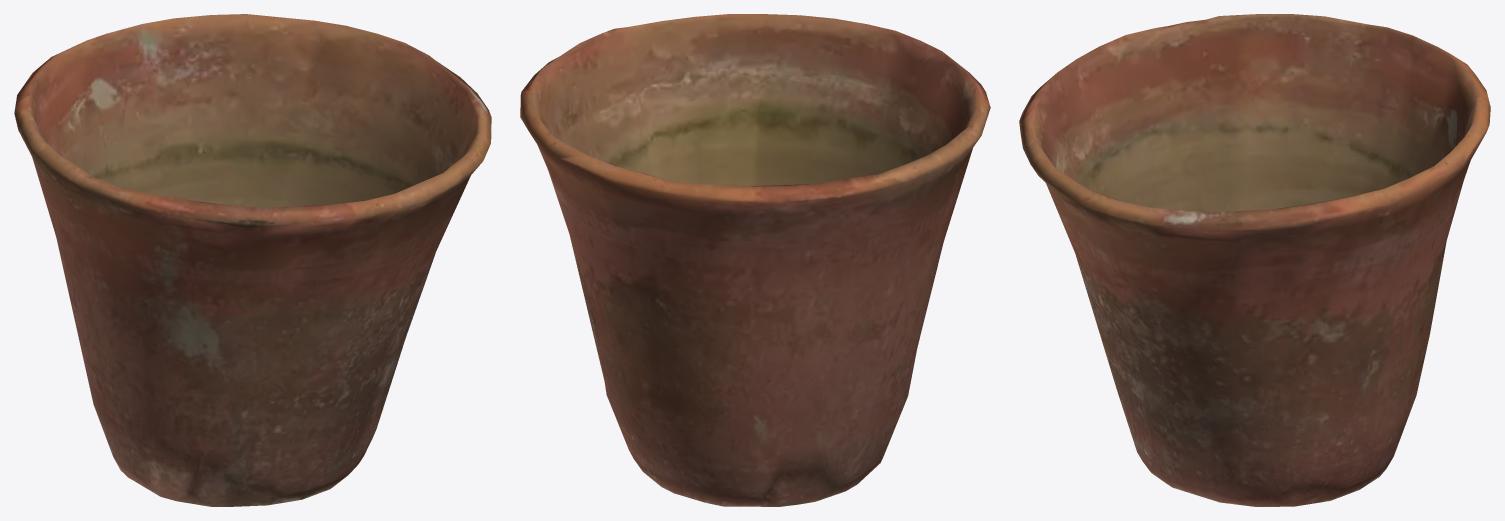
File: planter_pot_clay.glb
3 views of the same model, side by side, from view 1: azimuth 30°, elevation 25°; view 2: azimuth 150°, elevation 25°; view 3: azimuth 270°, elevation 25° (orthographic).
Visible parts, largest first — view 1: planter_pot_clay; view 2: planter_pot_clay; view 3: planter_pot_clay.
Boxes of the visible parts, x1,y1,x2,y2 form: planter_pot_clay: (14,14,491,506); planter_pot_clay: (520,14,990,506); planter_pot_clay: (1019,14,1490,506).
Bounding box in the file's own units: 0.266 × 0.2218 × 0.2635.
Materials: 1 (1 with a texture image).
